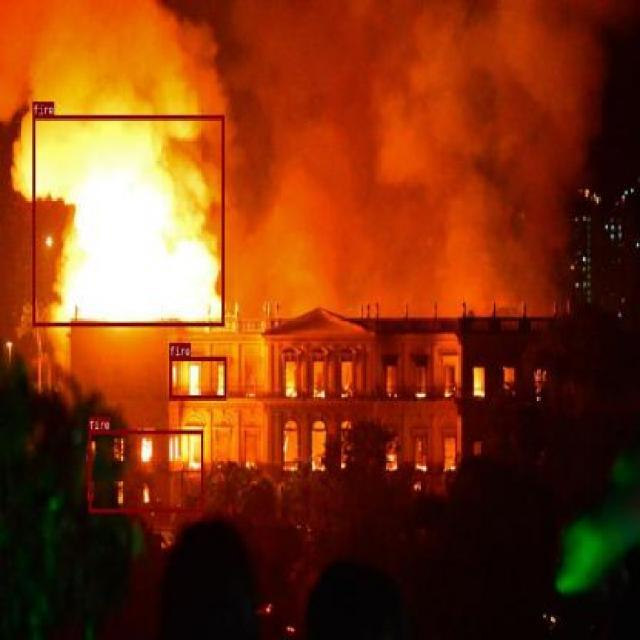fire: (31, 114, 224, 326), (88, 430, 204, 512), (169, 356, 226, 398)
